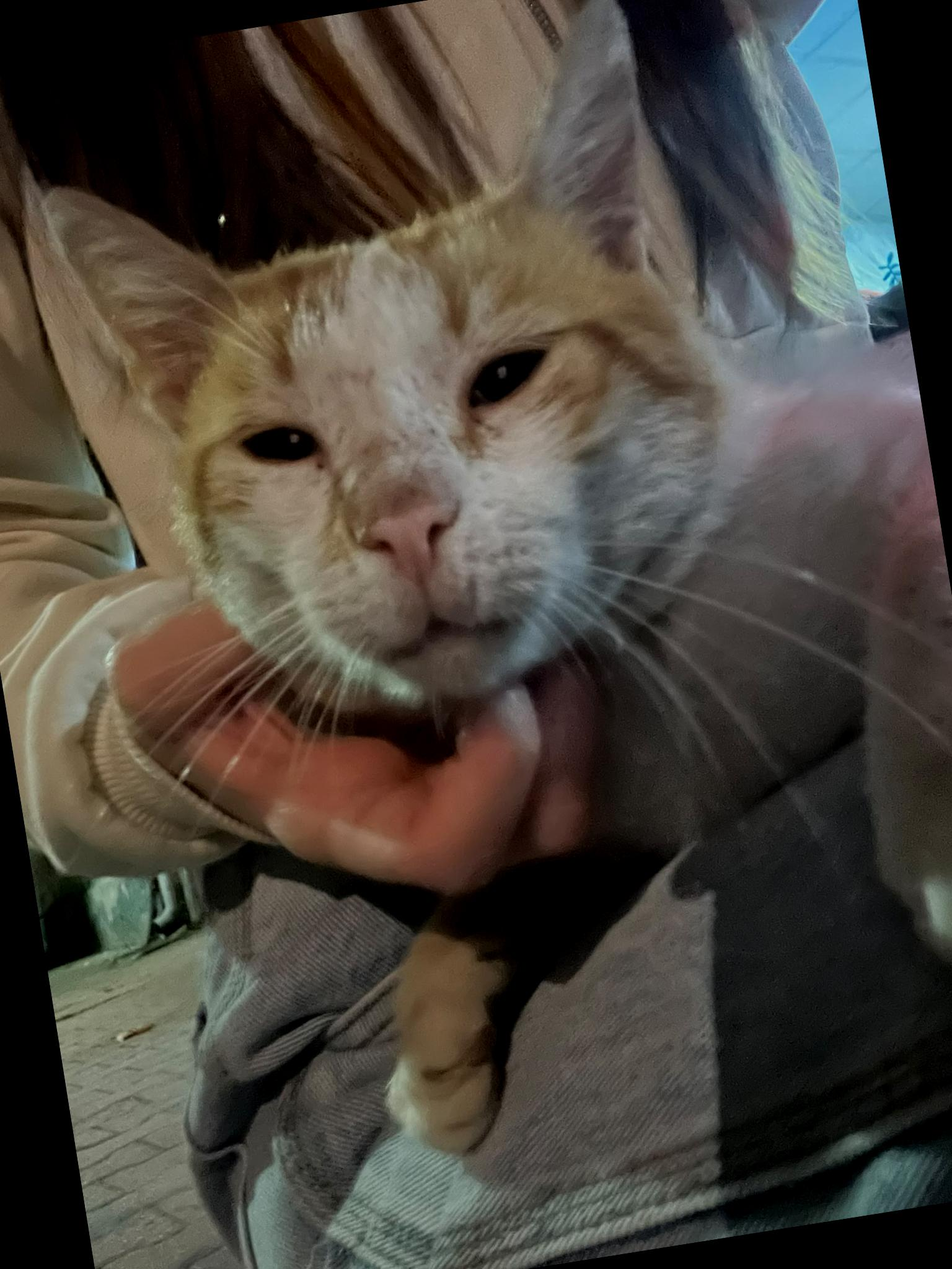macka: (7, 0, 952, 1196)
